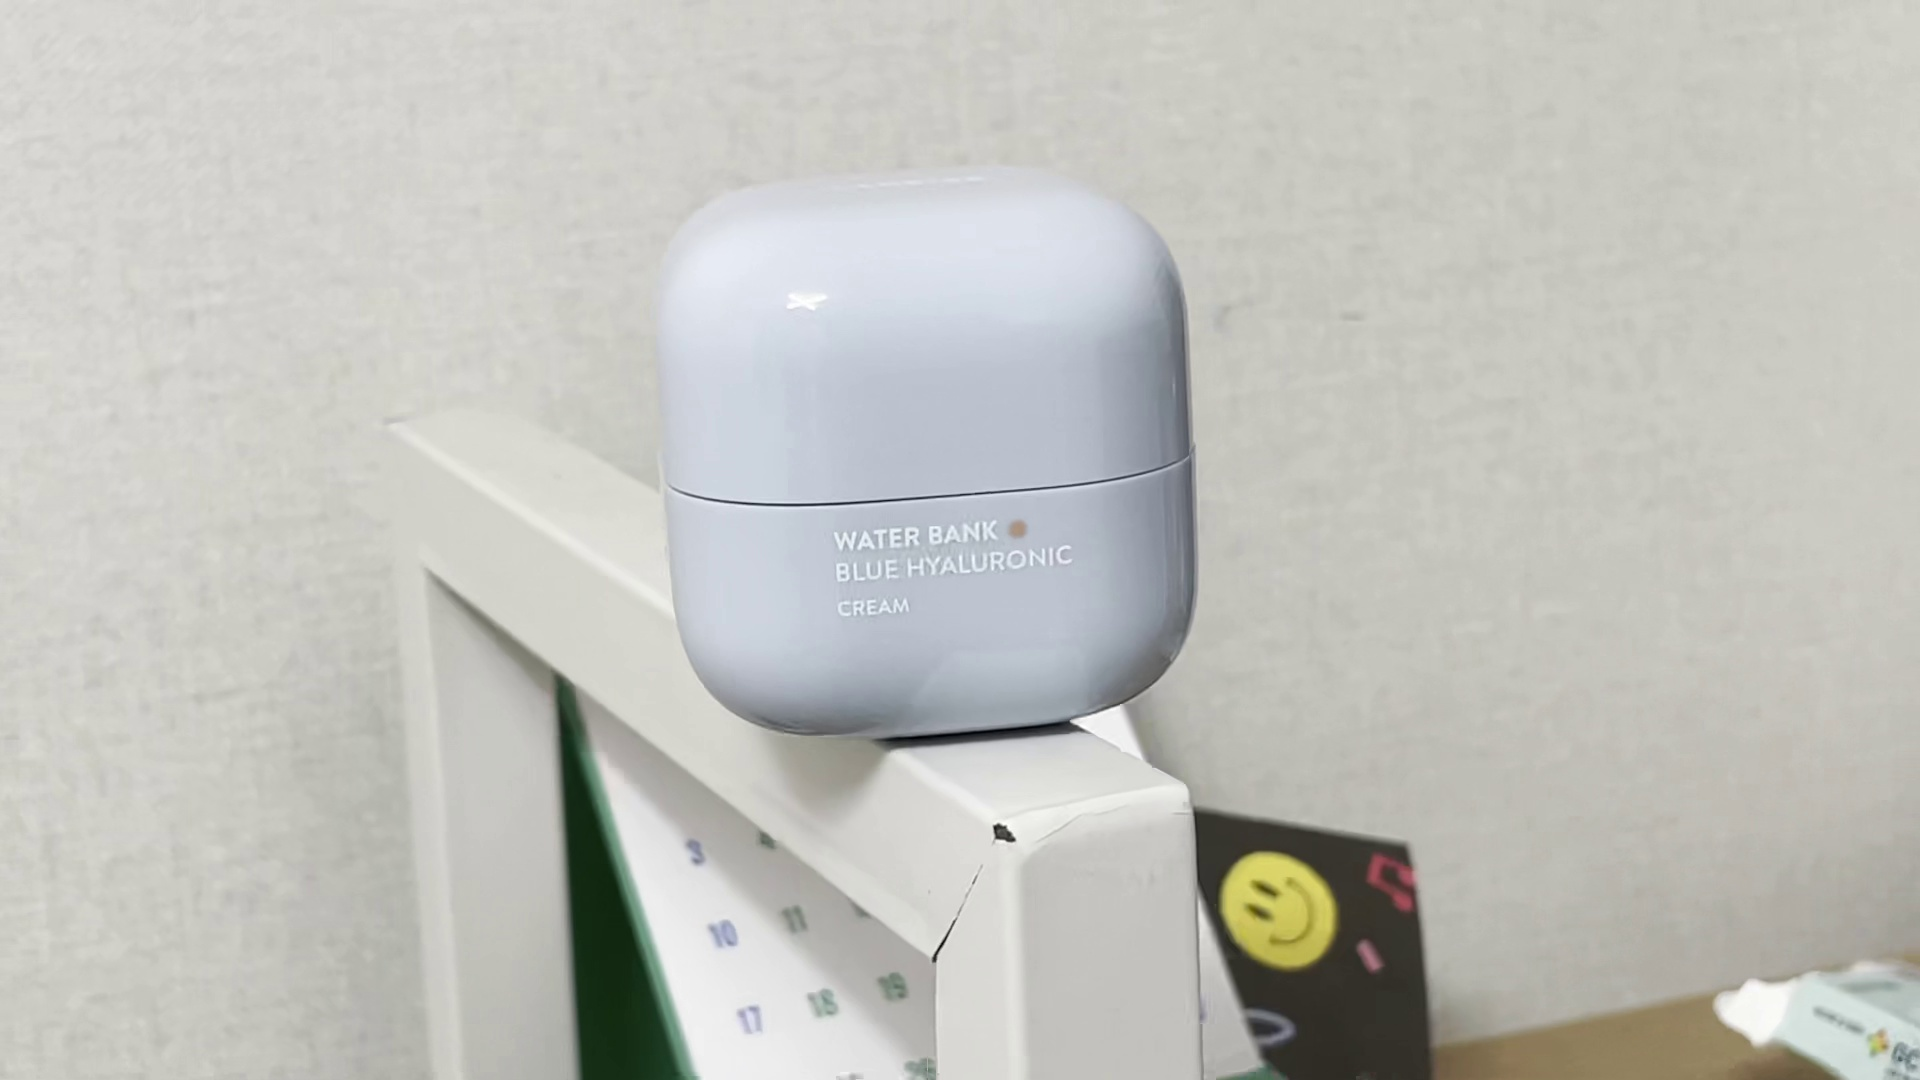cream: (651, 166, 1208, 745)
